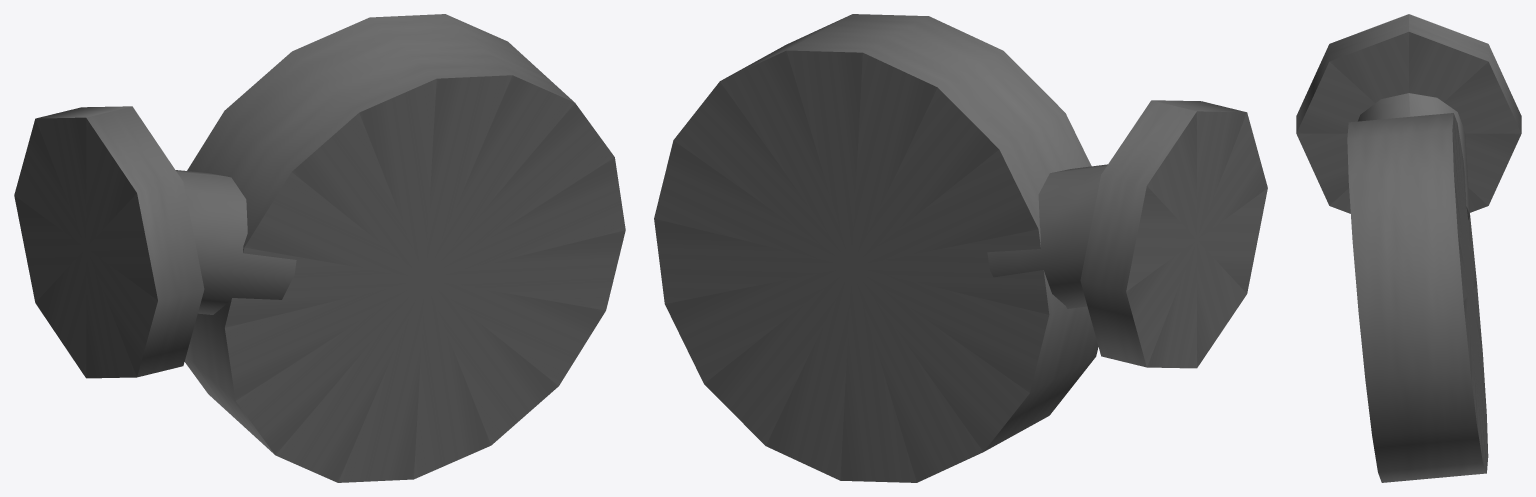
File: mastarmcurve_10x2_c9_west.obj
3 renders of one model, left to right at view 1: azimuth 30°, elevation 25°; view 2: azimuth 150°, elevation 25°; view 3: azimuth 270°, elevation 25°, orthographic. The views are drawn at different scales.
Parts seen in each view (by area): view 1: mastarm_10x2_c9_west; view 2: mastarm_10x2_c9_west; view 3: mastarm_10x2_c9_west.
Part boxes in pixels (left/top/right/bottom): mastarm_10x2_c9_west: left=14, top=14, right=625, bottom=482; mastarm_10x2_c9_west: left=654, top=14, right=1267, bottom=482; mastarm_10x2_c9_west: left=1296, top=14, right=1521, bottom=482.
Size of the model in its own units: 0.8212 by 0.6589 by 0.4.
